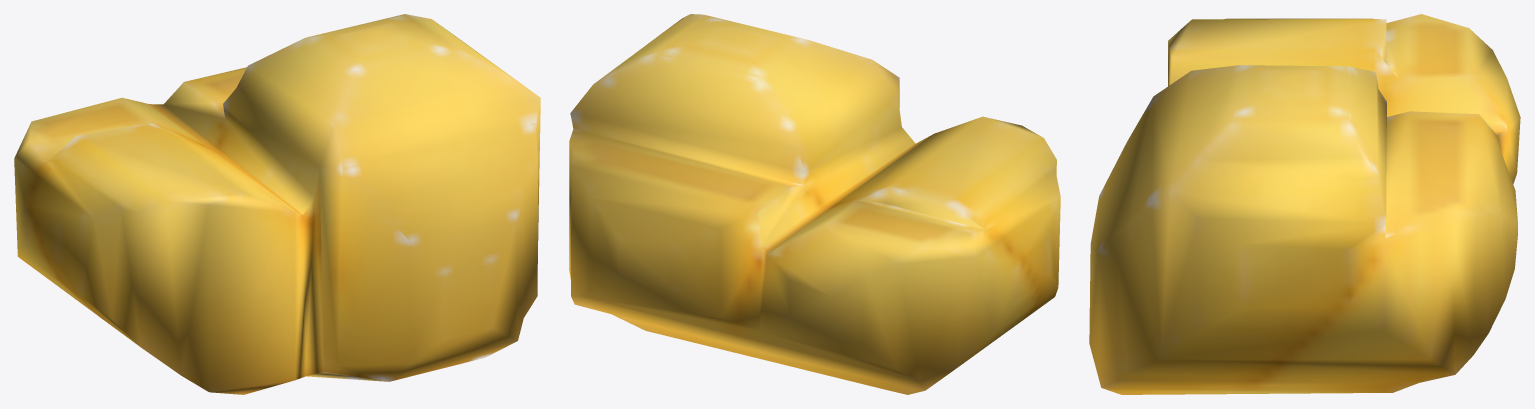
3 renders of one model, left to right at view 1: azimuth 30°, elevation 25°; view 2: azimuth 150°, elevation 25°; view 3: azimuth 270°, elevation 25°, orthographic. The views are drawn at different scales.
Bounding box in the file's own units: 1.69 × 1.02 × 1.31.
1 material, 1 textured.
